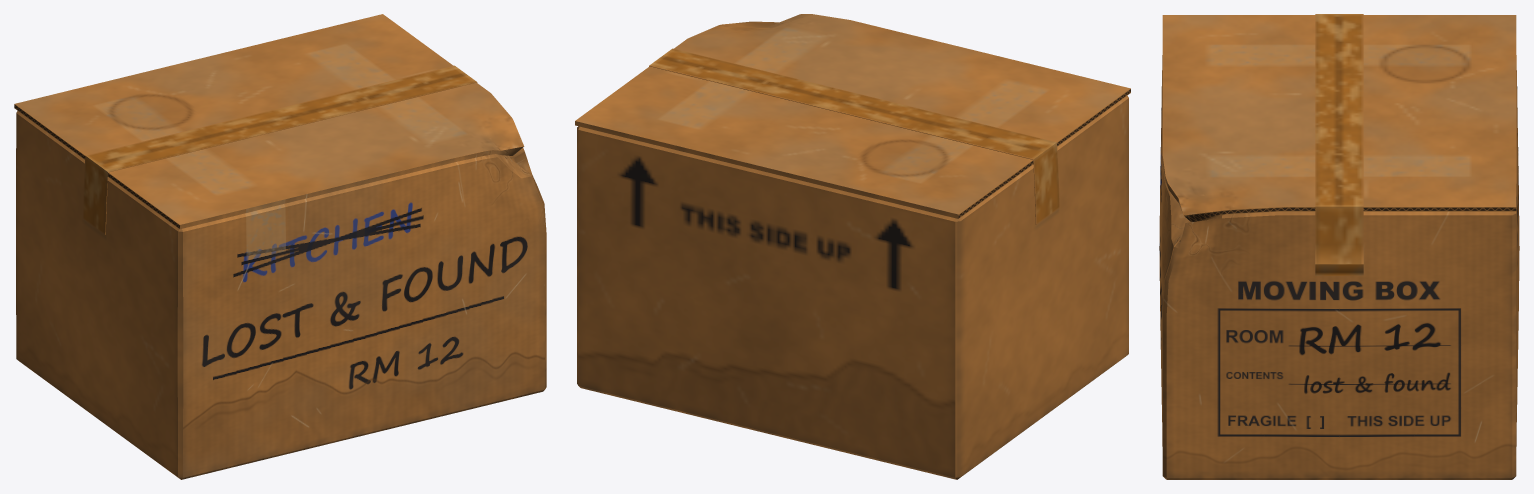
The model's file is SM_Motel_CardboardBox.obj.
3 views of the same model, side by side, from view 1: azimuth 30°, elevation 25°; view 2: azimuth 150°, elevation 25°; view 3: azimuth 270°, elevation 25° (orthographic). The views are drawn at different scales.
Parts seen in each view (by area): view 1: SM_Motel_CardboardBox; view 2: SM_Motel_CardboardBox; view 3: SM_Motel_CardboardBox.
Boxes of the visible parts, x1=… form: SM_Motel_CardboardBox: x1=14, y1=14, x2=546, y2=479; SM_Motel_CardboardBox: x1=575, y1=14, x2=1130, y2=479; SM_Motel_CardboardBox: x1=1159, y1=14, x2=1519, y2=479.
Bounding box in the file's own units: 0.4903 × 0.3008 × 0.3564.
4 materials, 4 textured.
